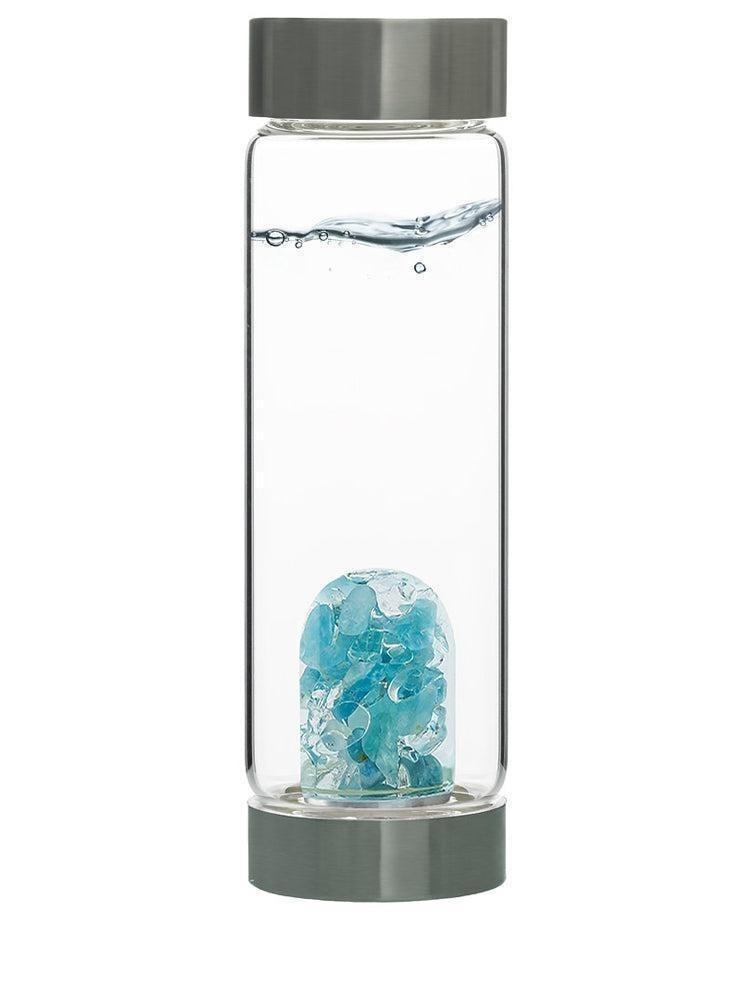gym bottle: (234, 1, 520, 914)
